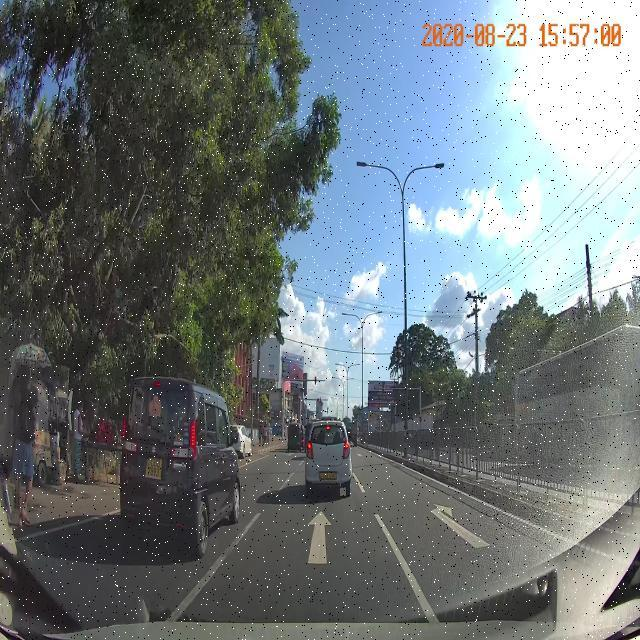forward: (194, 503, 423, 572)
